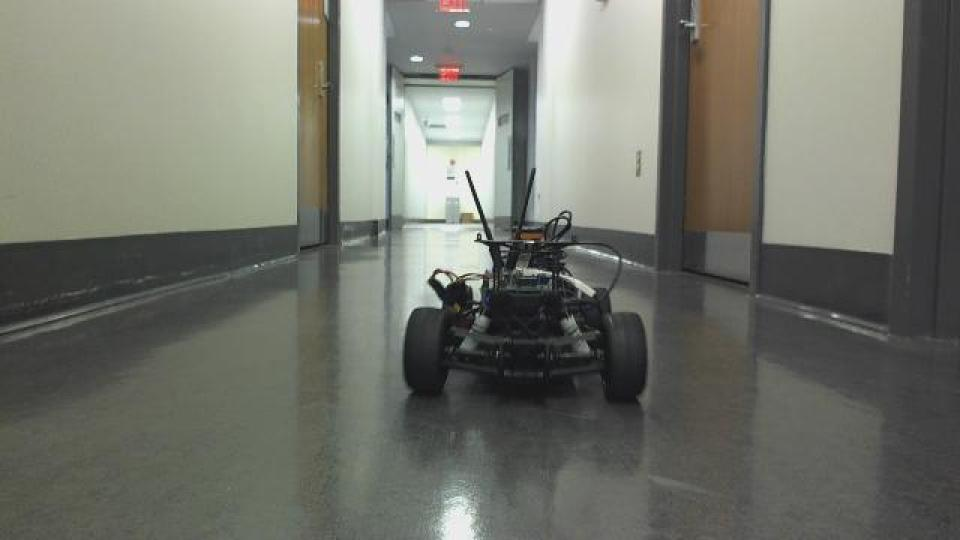car: (399, 165, 649, 405)
